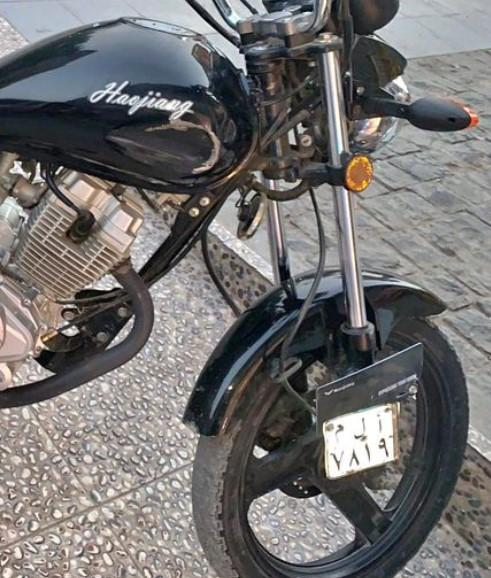License Plate: (319, 400, 406, 477)
